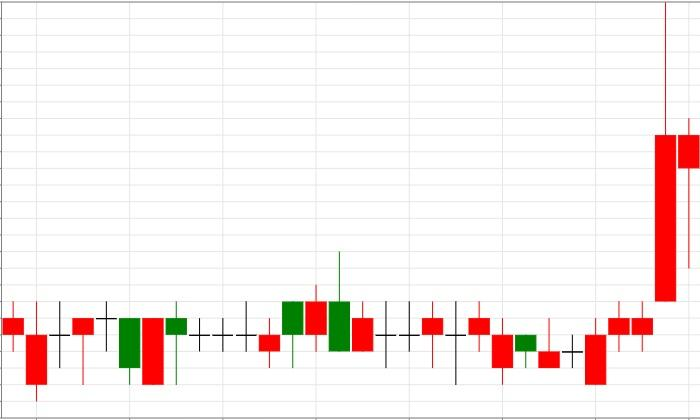evening_star_fall: (25, 301, 141, 402)
hanging_man_fall: (584, 2, 700, 385)
